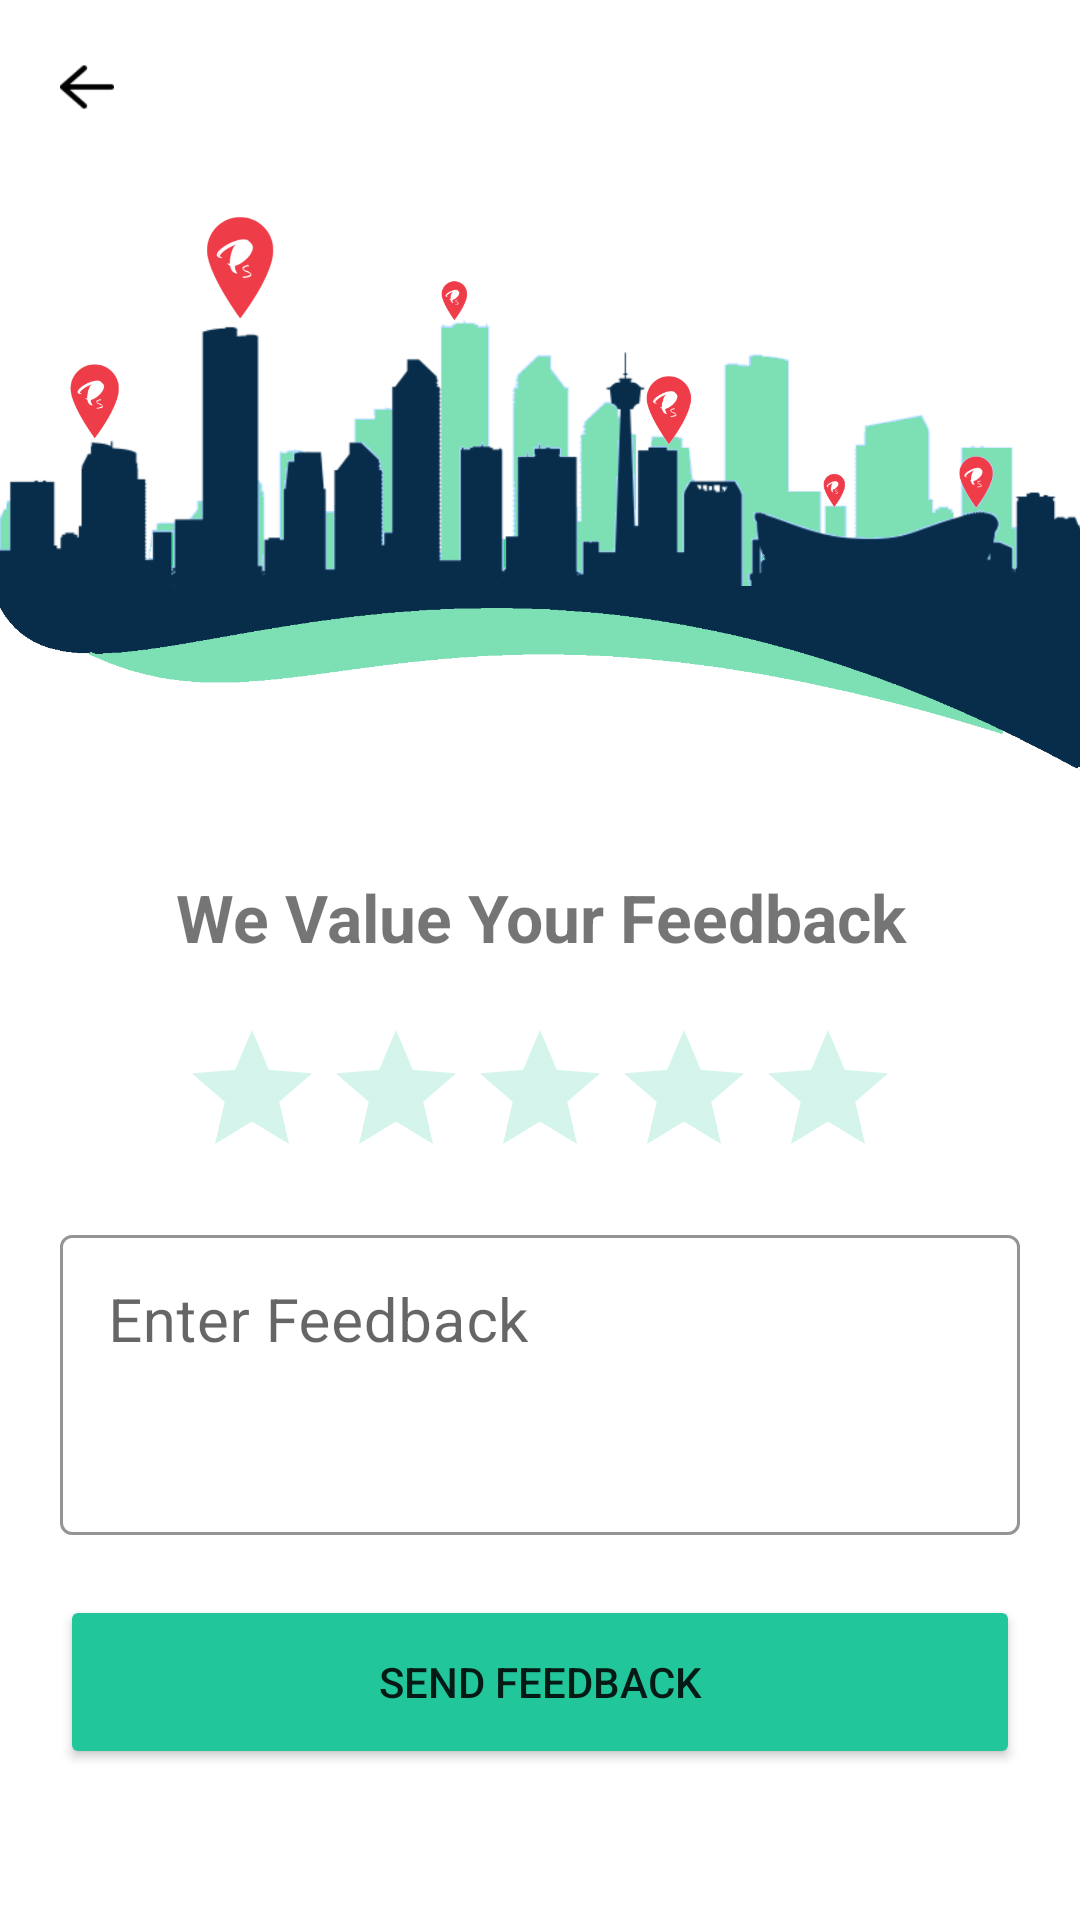

Icons on this 1080 × 1920 Android screen, each with the point to tap as point (x, y):
arrow: point (87, 87)
